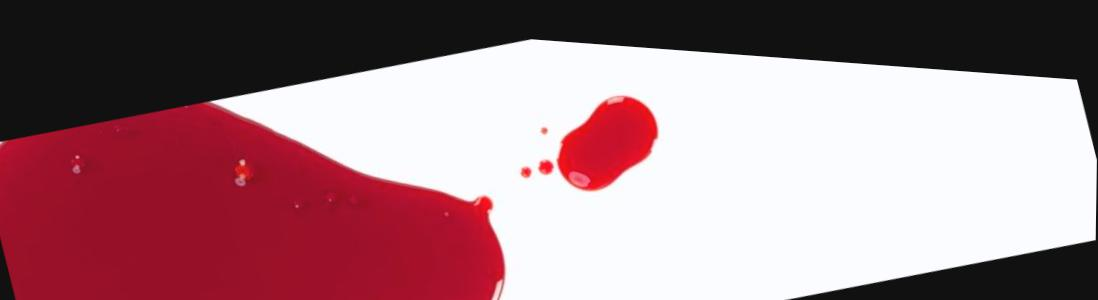Fire: (0, 98, 506, 300), (557, 85, 659, 182)
